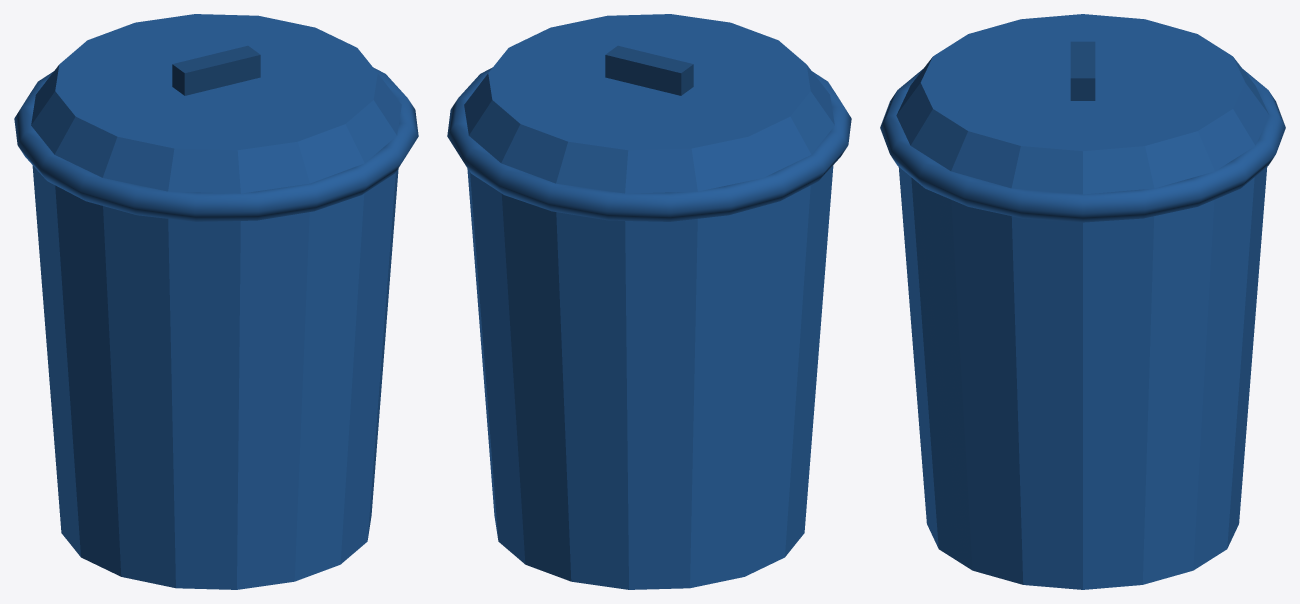
The model's file is trash.glb.
The picture shows the model from 3 angles, left to right: view 1: azimuth 30°, elevation 25°; view 2: azimuth 150°, elevation 25°; view 3: azimuth 270°, elevation 25°; orthographic projection.
Visible parts, largest first — view 1: trash; view 2: trash; view 3: trash.
Part boxes in pixels (x1,y1,x2,y2): trash: [14, 14, 418, 589]; trash: [447, 14, 851, 589]; trash: [880, 14, 1285, 589].
Size of the model in its own units: 0.65 by 0.82 by 0.65.
